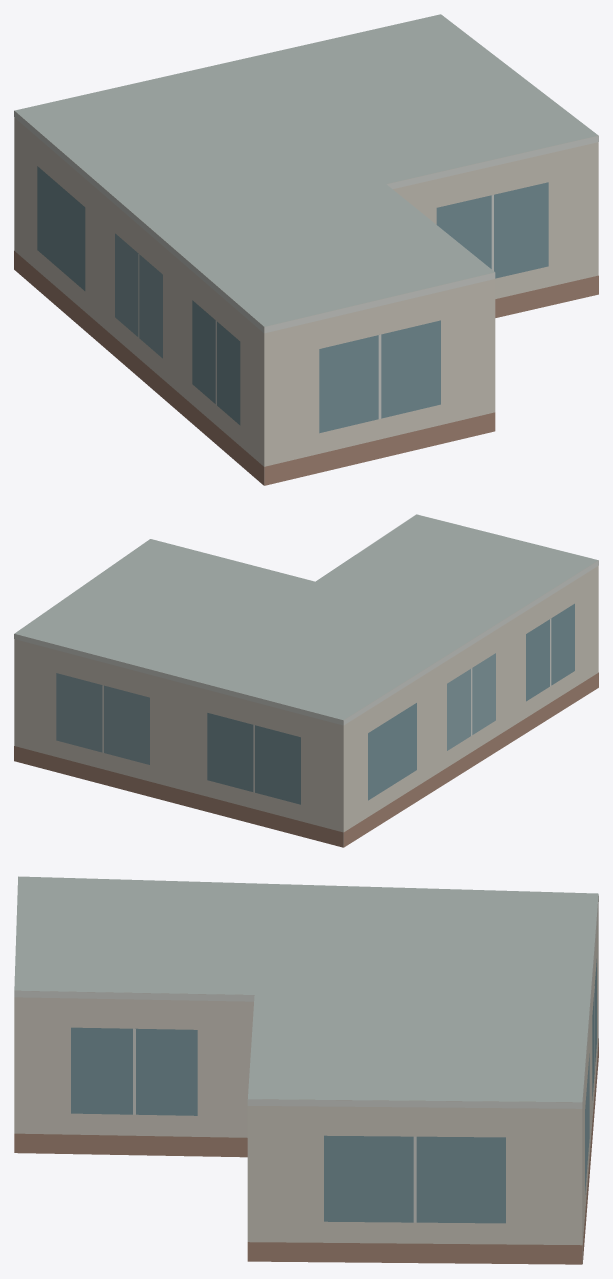
File: survey-upis-32729037.glb
3 renders of one model, top to bottom at view 1: azimuth 30°, elevation 25°; view 2: azimuth 150°, elevation 25°; view 3: azimuth 270°, elevation 25°, orthographic. The views are drawn at different scales.
Parts seen in each view (by area): view 1: survey-upis-32729037.tmp; view 2: survey-upis-32729037.tmp; view 3: survey-upis-32729037.tmp.
Boxes of the visible parts, box(x1,y1,x2,y2) form: survey-upis-32729037.tmp: box(14, 14, 598, 485); survey-upis-32729037.tmp: box(14, 514, 598, 847); survey-upis-32729037.tmp: box(14, 876, 598, 1264).
Size of the model in its own units: 9.11 by 3.05 by 9.97.
